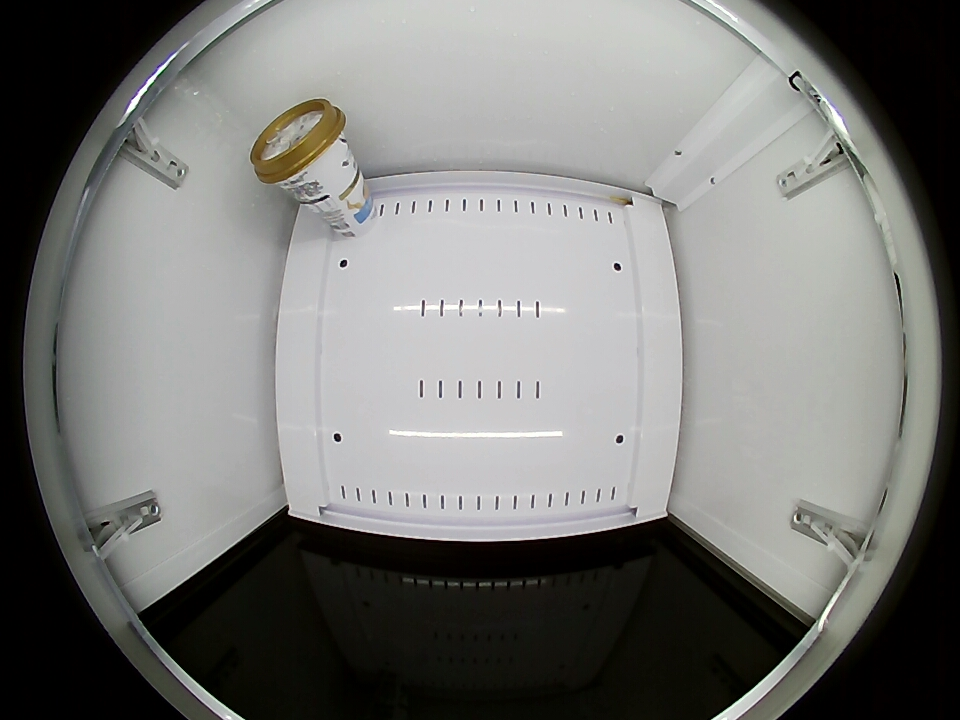lujiaoxiang: (250, 99, 350, 192)
